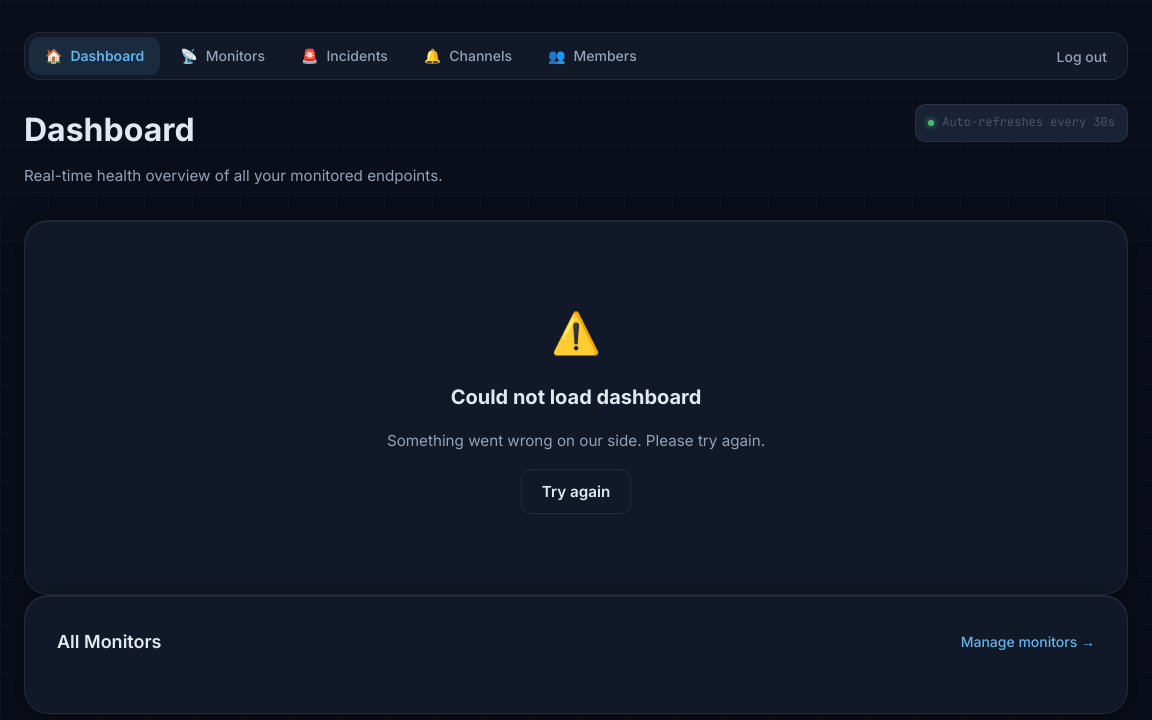
Scenario: DashboardPage › shows error state with Try again button, retries on click and shows data
expect the heading "Could not load dashboard" is shown: met, box [451,381,701,413]
Click the button with test id "retry-btn": (576, 492) [521,469,631,514]
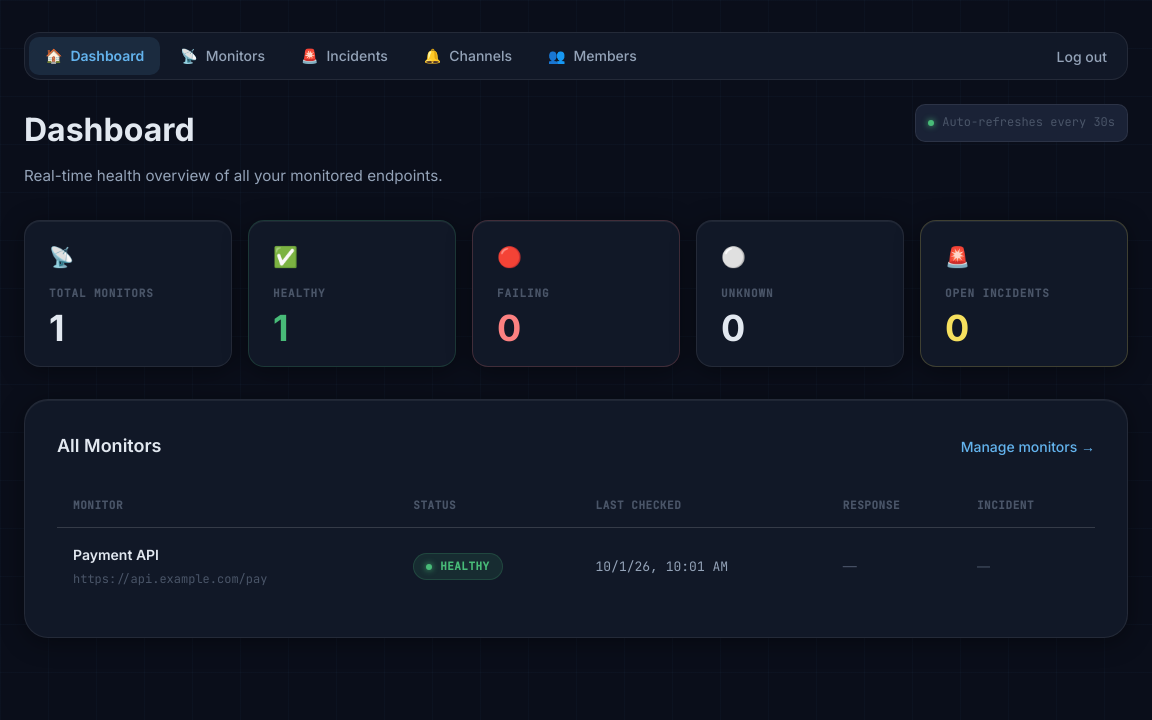
expect the link "Payment API" is shown: met, box [73,546,159,563]
